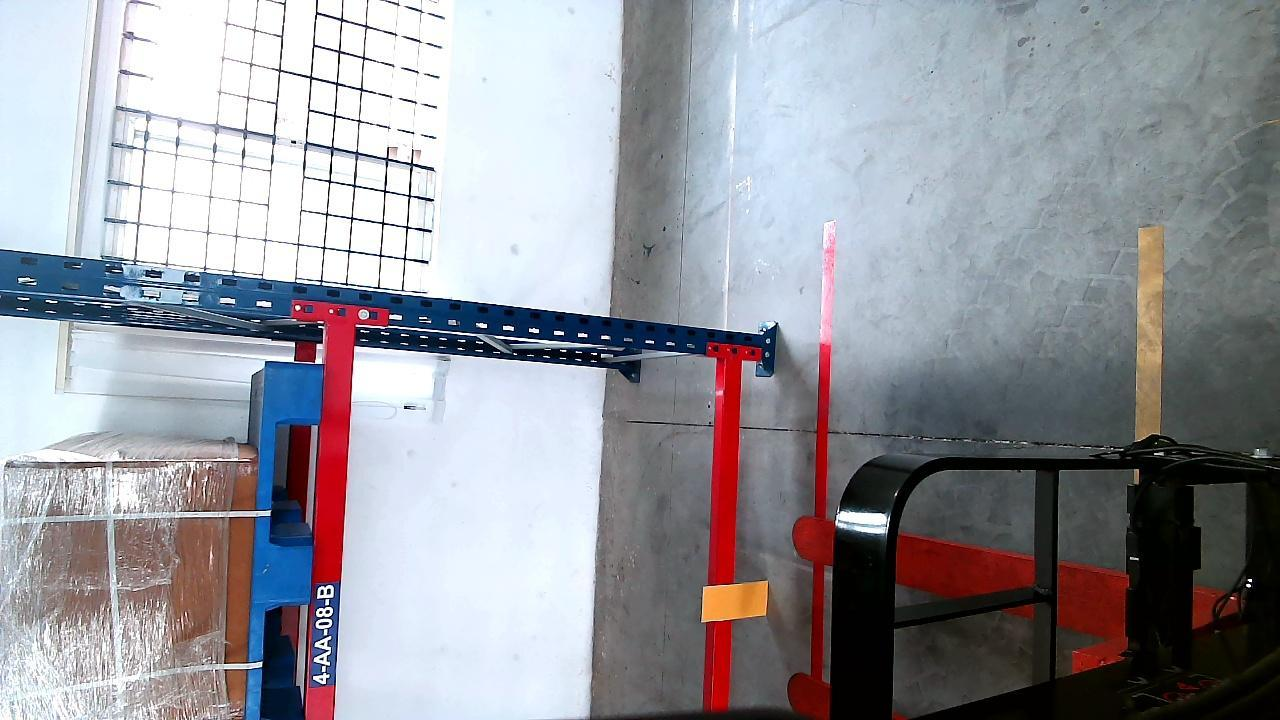red_line: (813, 228, 837, 533)
yellow_line: (1137, 220, 1162, 442)
